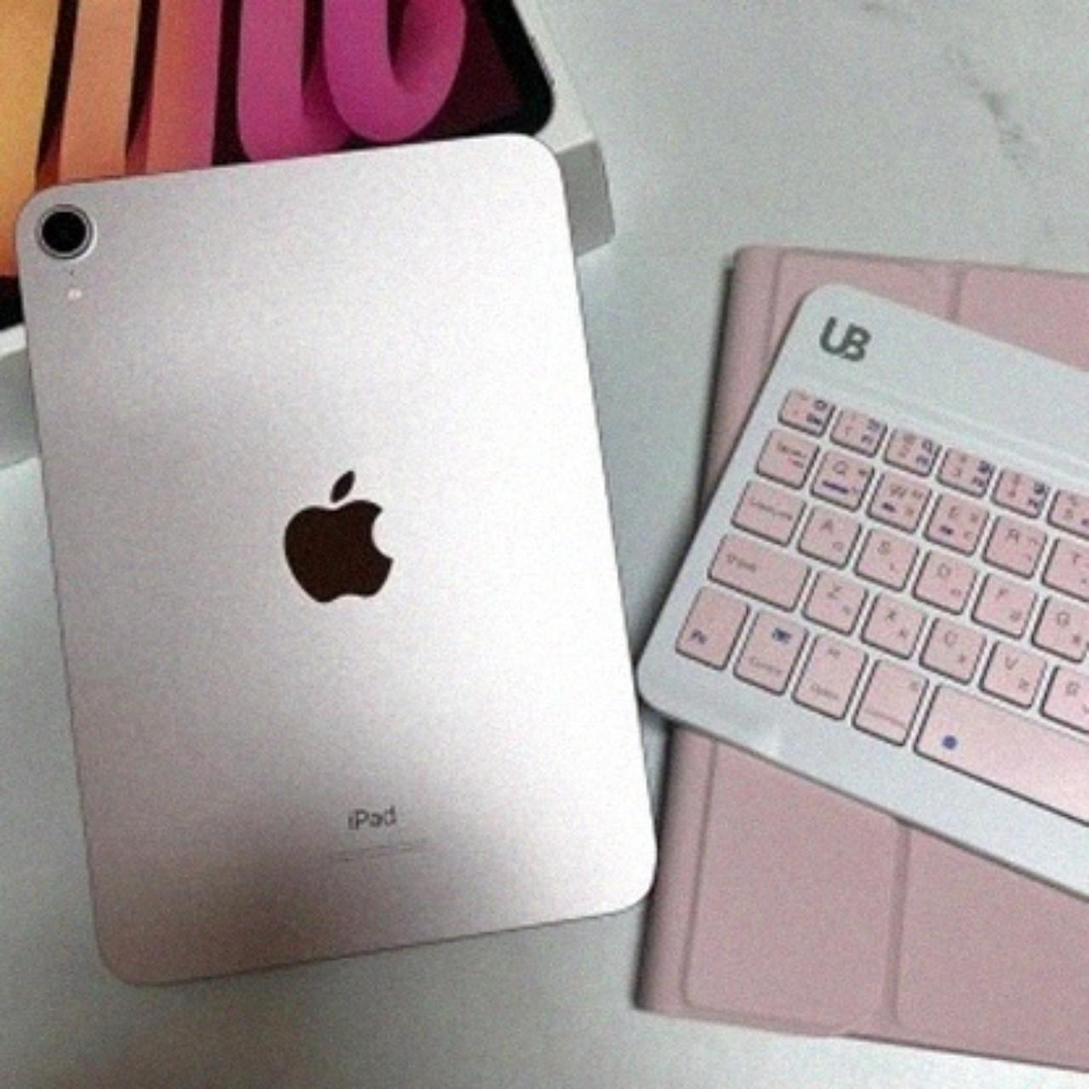Tablet_PC: (14, 123, 676, 979)
